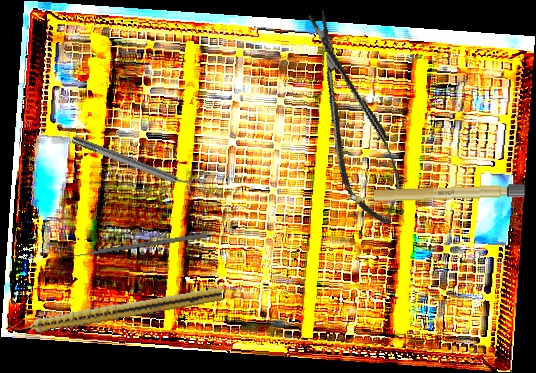Fixation Ring: (68, 127, 206, 201)
Handpiece: (6, 282, 224, 339)
Micro Scissor: (295, 2, 411, 233)
Pusher: (60, 232, 208, 261)
Scalpel Handle: (347, 182, 527, 204)
